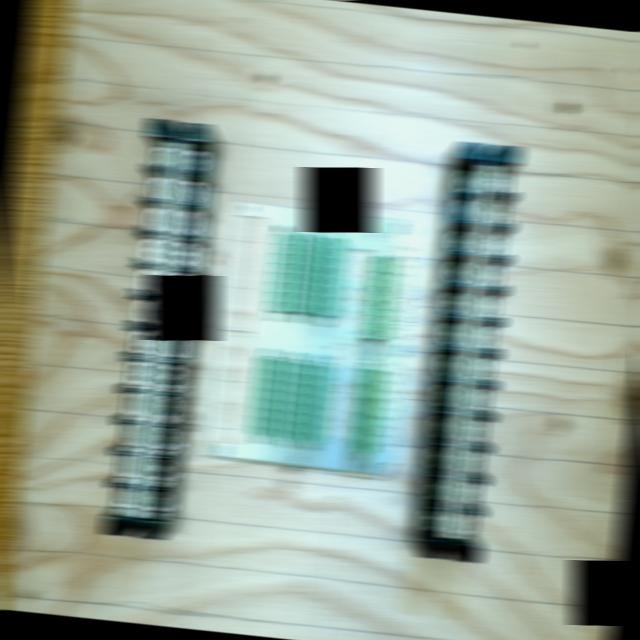Flathead_Block: (418, 141, 522, 562)
Phillips_Block: (102, 118, 209, 540)
Terminal_1: (364, 253, 397, 340), (352, 366, 385, 453)
Terminal_2: (288, 231, 321, 313), (313, 234, 345, 317), (300, 362, 332, 444), (274, 359, 306, 441), (248, 355, 280, 437)
